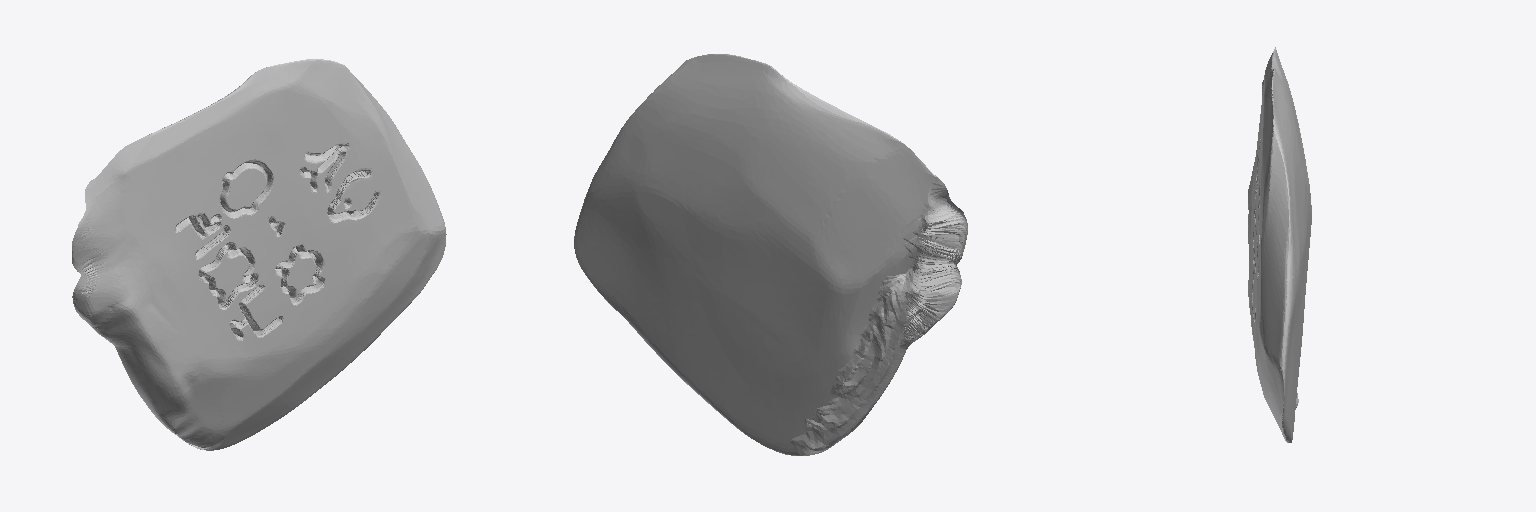
File: Tabula6.OBJ
The picture shows the model from 3 angles: view 1: azimuth 30°, elevation 25°; view 2: azimuth 150°, elevation 25°; view 3: azimuth 270°, elevation 25°; orthographic projection.
Parts seen in each view (by area): view 1: Group38153; view 2: Group38153; view 3: Group38153.
Boxes of the visible parts, box(x1,y1,x2,y2) form: Group38153: box(72, 59, 446, 450); Group38153: box(574, 54, 967, 455); Group38153: box(1248, 47, 1311, 442).
Bounding box in the file's own units: 16.64 × 15.67 × 2.41.